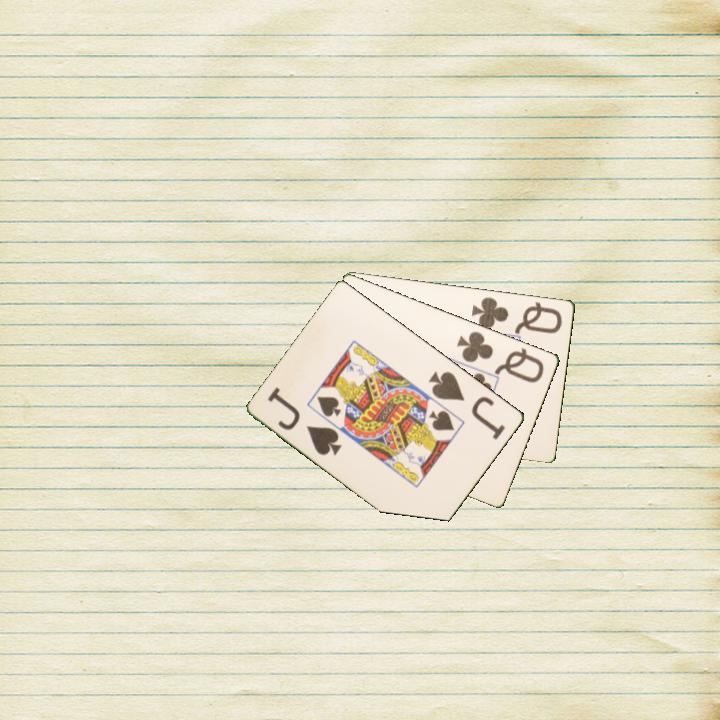Js: (425, 367, 508, 443), (264, 383, 346, 458)
Qc: (454, 327, 547, 386), (468, 293, 565, 336)
